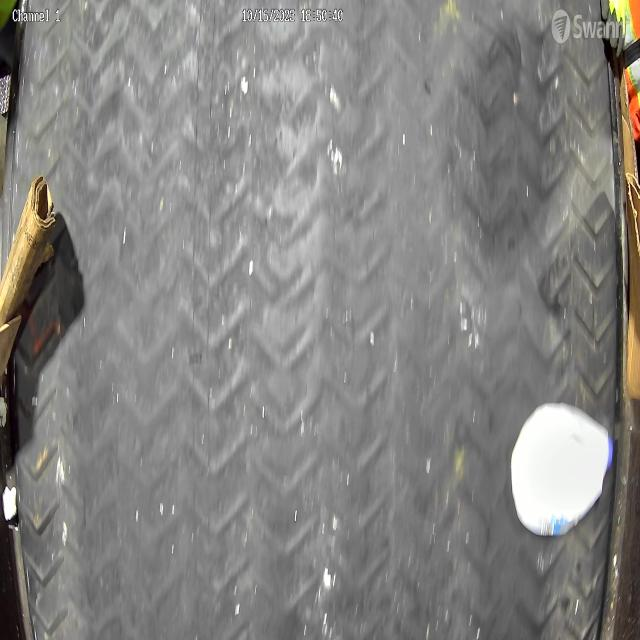milk_jug: (512, 403, 614, 536)
